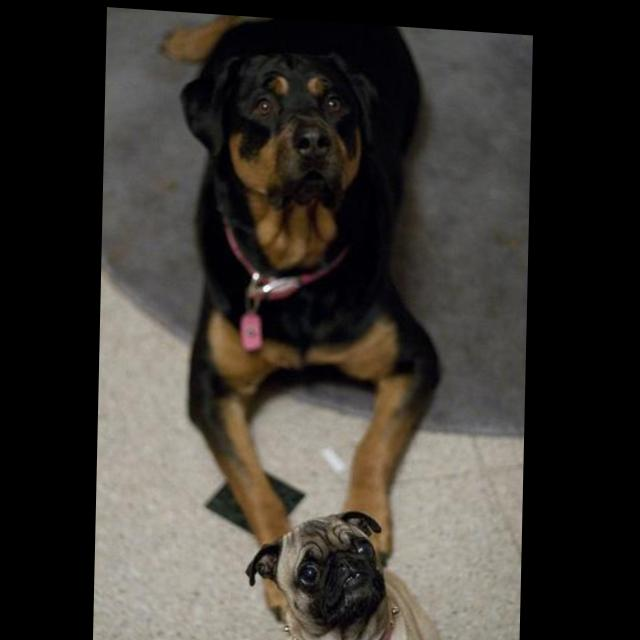other_dog_breed: (246, 500, 456, 640)
rottweiler: (153, 10, 451, 590)
